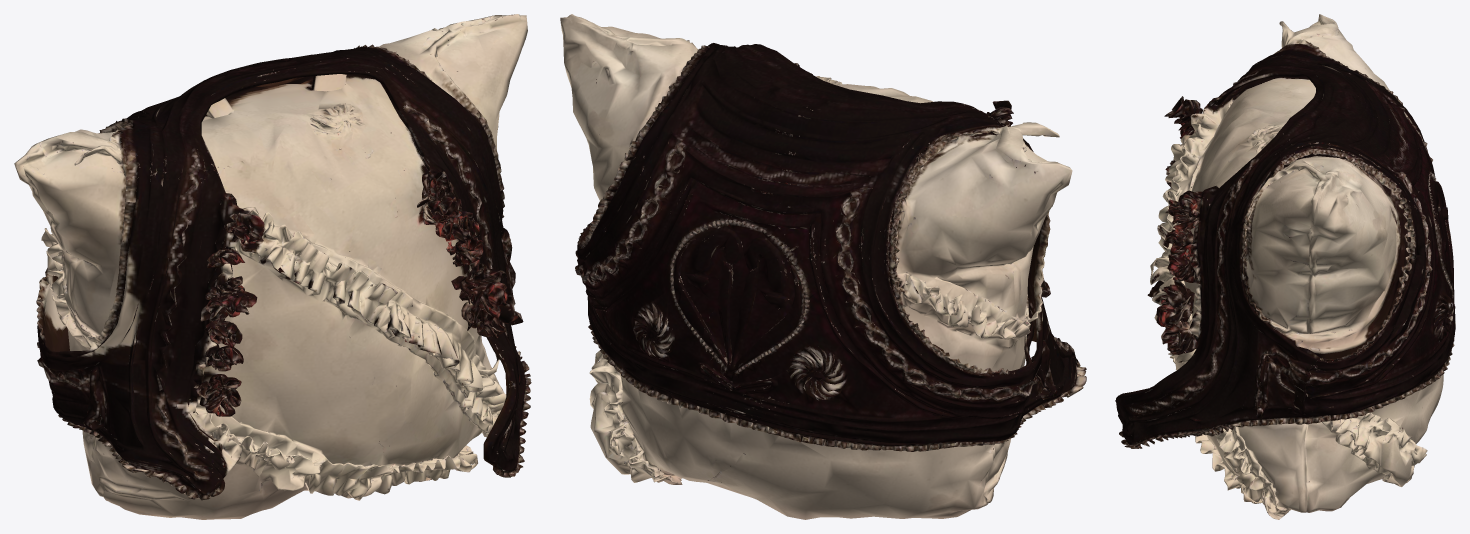
Rendered from jelek-crni.glb.
3 views of the same model, side by side, from view 1: azimuth 30°, elevation 25°; view 2: azimuth 150°, elevation 25°; view 3: azimuth 270°, elevation 25° (orthographic). The views are drawn at different scales.
Size of the model in its own units: 1.89 by 1.46 by 1.29.
1 material, 1 textured.
